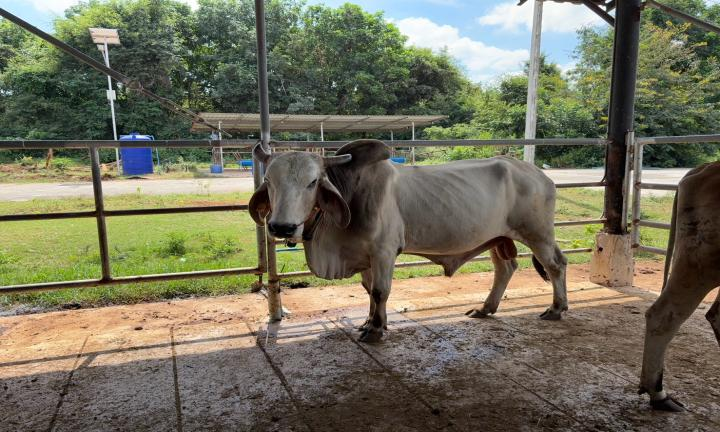Brahman: (248, 139, 567, 342)
